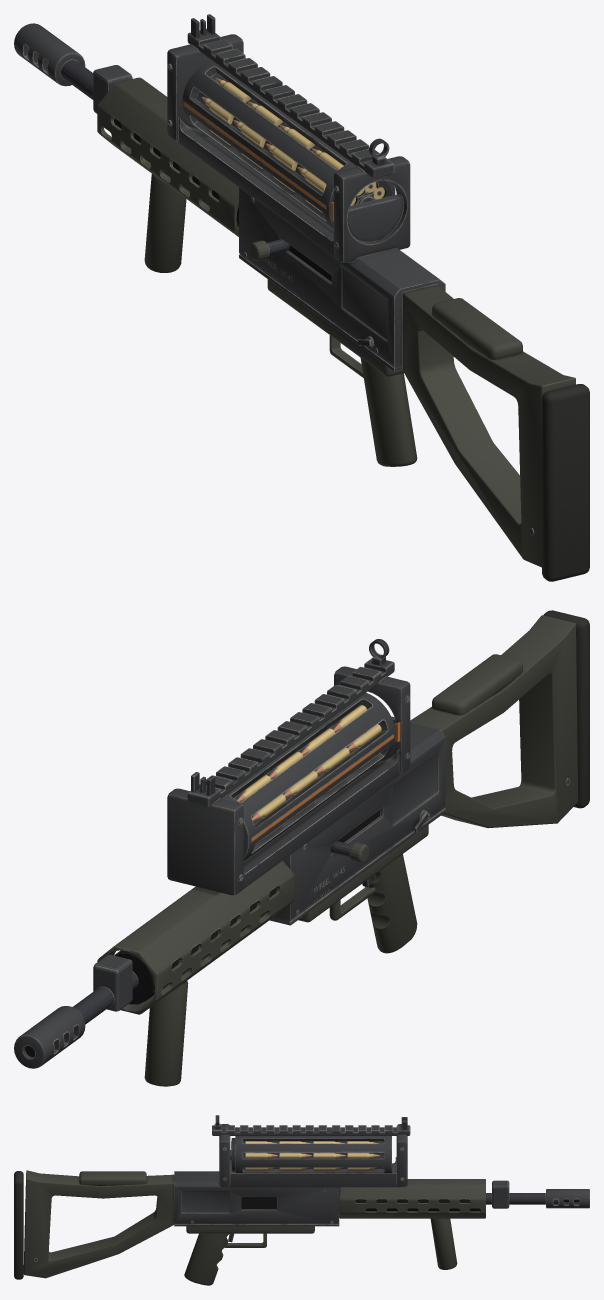
File: wirbel.glb
3 renders of one model, top to bottom at view 1: azimuth 30°, elevation 25°; view 2: azimuth 150°, elevation 25°; view 3: azimuth 270°, elevation 25°, orthographic. The views are drawn at different scales.
Parts seen in each view (by area): view 1: Body, Magazine, Sights; view 2: Body, Magazine, Sights; view 3: Body, Magazine.
Part boxes in pixels (<box>): Body: <box>14,23,589,581</box>; Magazine: <box>182,60,395,228</box>; Sights: <box>191,14,389,165</box>; Body: <box>14,610,589,1086</box>; Magazine: <box>221,692,400,860</box>; Sights: <box>191,639,389,795</box>; Body: <box>14,1124,589,1285</box>; Magazine: <box>230,1136,391,1173</box>.
Size of the model in its own units: 0.0925 by 0.3042 by 0.942.
Materials: 2 (2 with a texture image).
